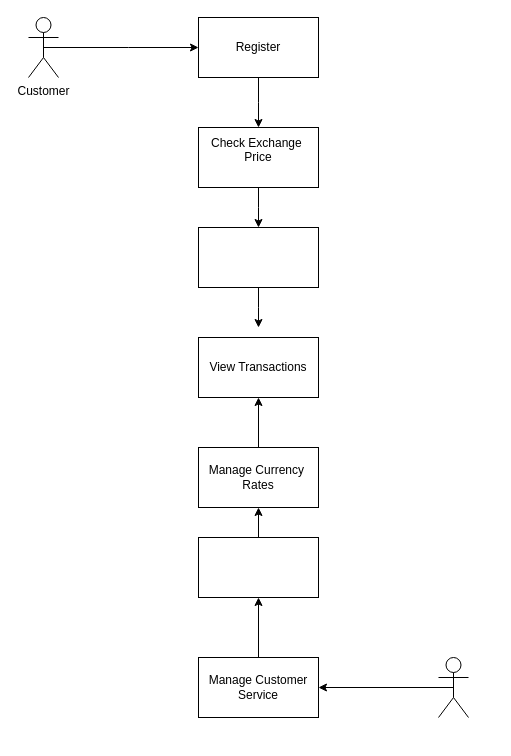
The diagram is 511 pixels wide and 756 high, and some of its shapes have lost their labels. The centre of each missing label's shape, as x and y in pixels:
"Exchange Money" belongs at [258,257].
"Exchange Staff" belongs at [453,687].
"Manage Transactions" belongs at [258,567].
